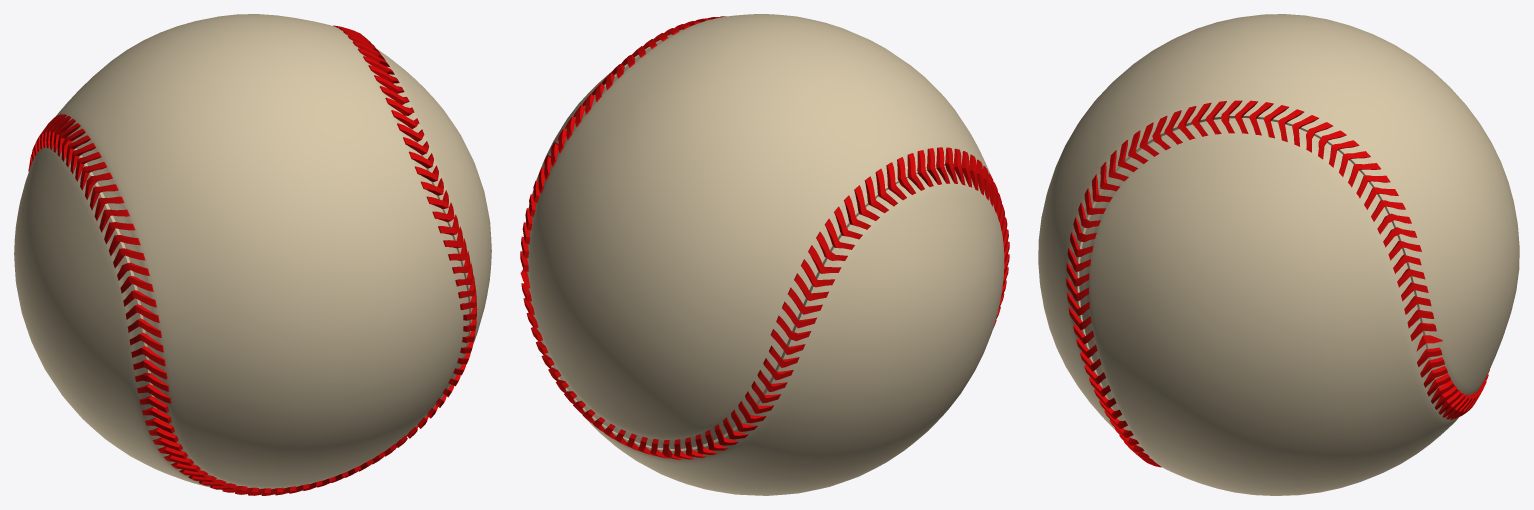
File: baseball_reduced.fbx
3 renders of one model, left to right at view 1: azimuth 30°, elevation 25°; view 2: azimuth 150°, elevation 25°; view 3: azimuth 270°, elevation 25°, orthographic.
Visible parts, largest first — view 1: baseball; view 2: baseball; view 3: baseball.
Part boxes in pixels (bbox=[...]): baseball: bbox=[14, 14, 491, 495]; baseball: bbox=[520, 14, 1009, 495]; baseball: bbox=[1038, 14, 1519, 495].
Bounding box in the file's own units: 7.29 × 7.3 × 7.29.
